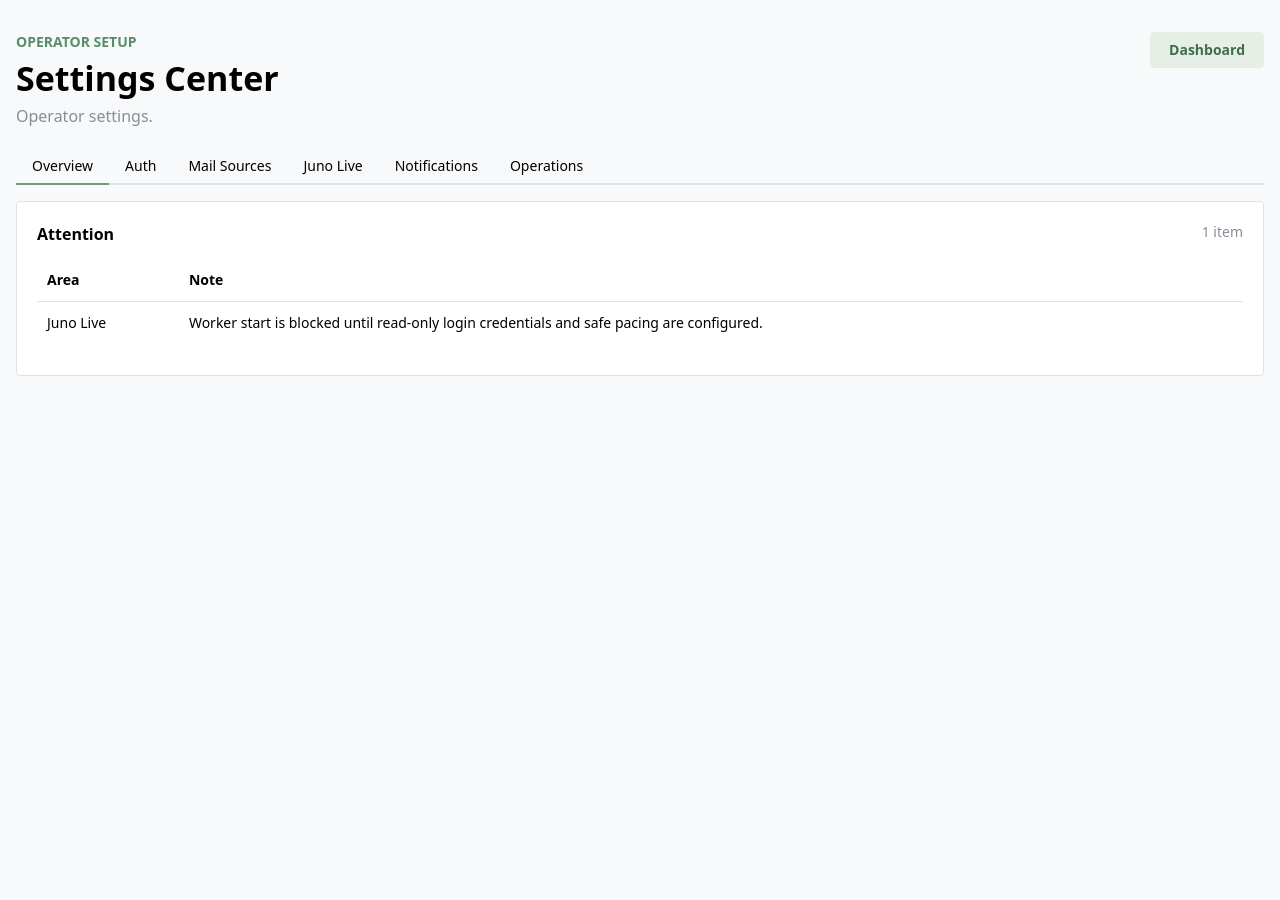
Test: SettingsCenter › selects the Auth tab through DOM click and keyboard navigation
Click the tab "Auth" at (141, 167), box [109, 149, 172, 185]
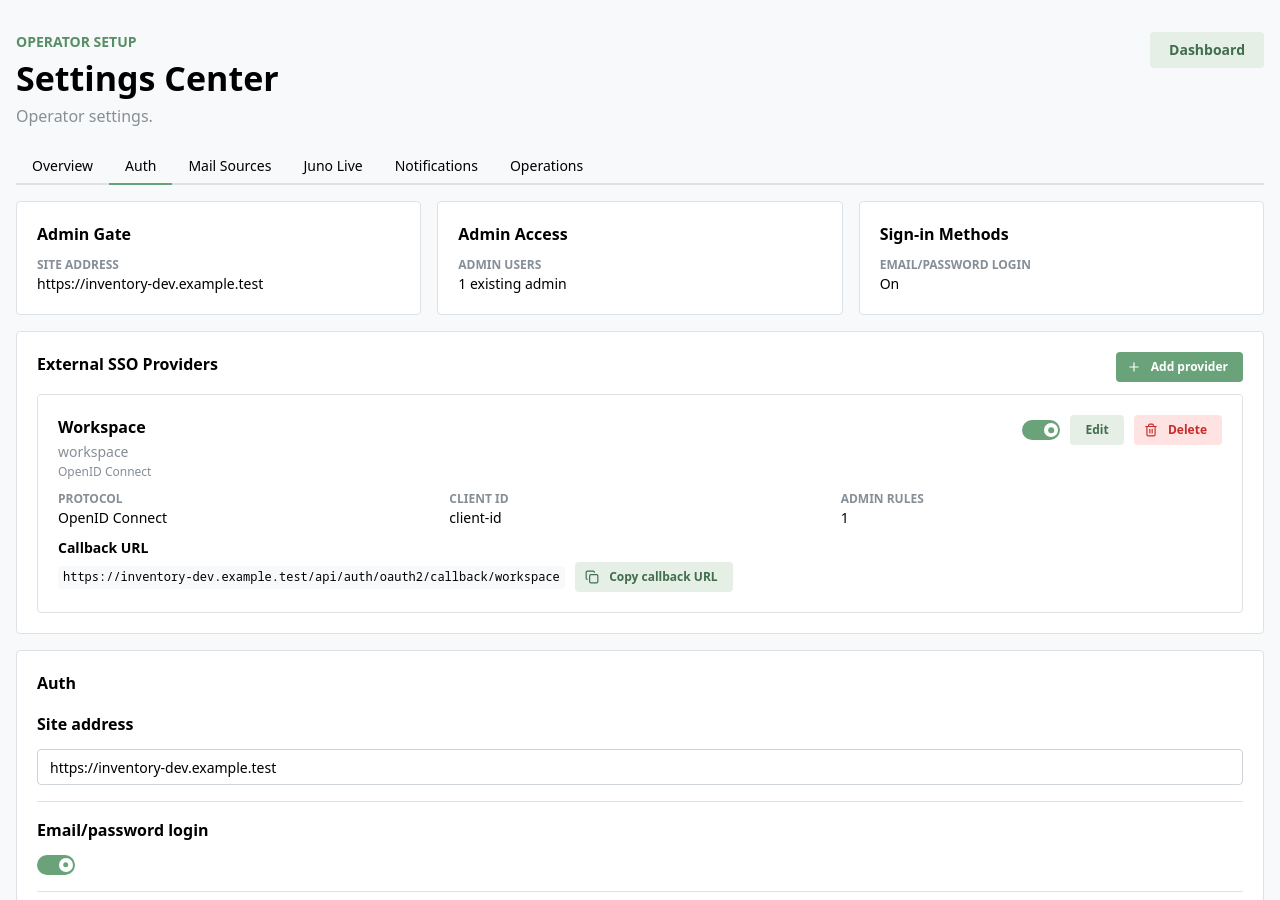
Expected: the 1st text "Auth" is shown, [125, 159, 156, 173]
Now the text "External SSO Providers" is shown, box [37, 352, 218, 377]
Click the tab "Overview" at (63, 167), box [16, 149, 109, 185]
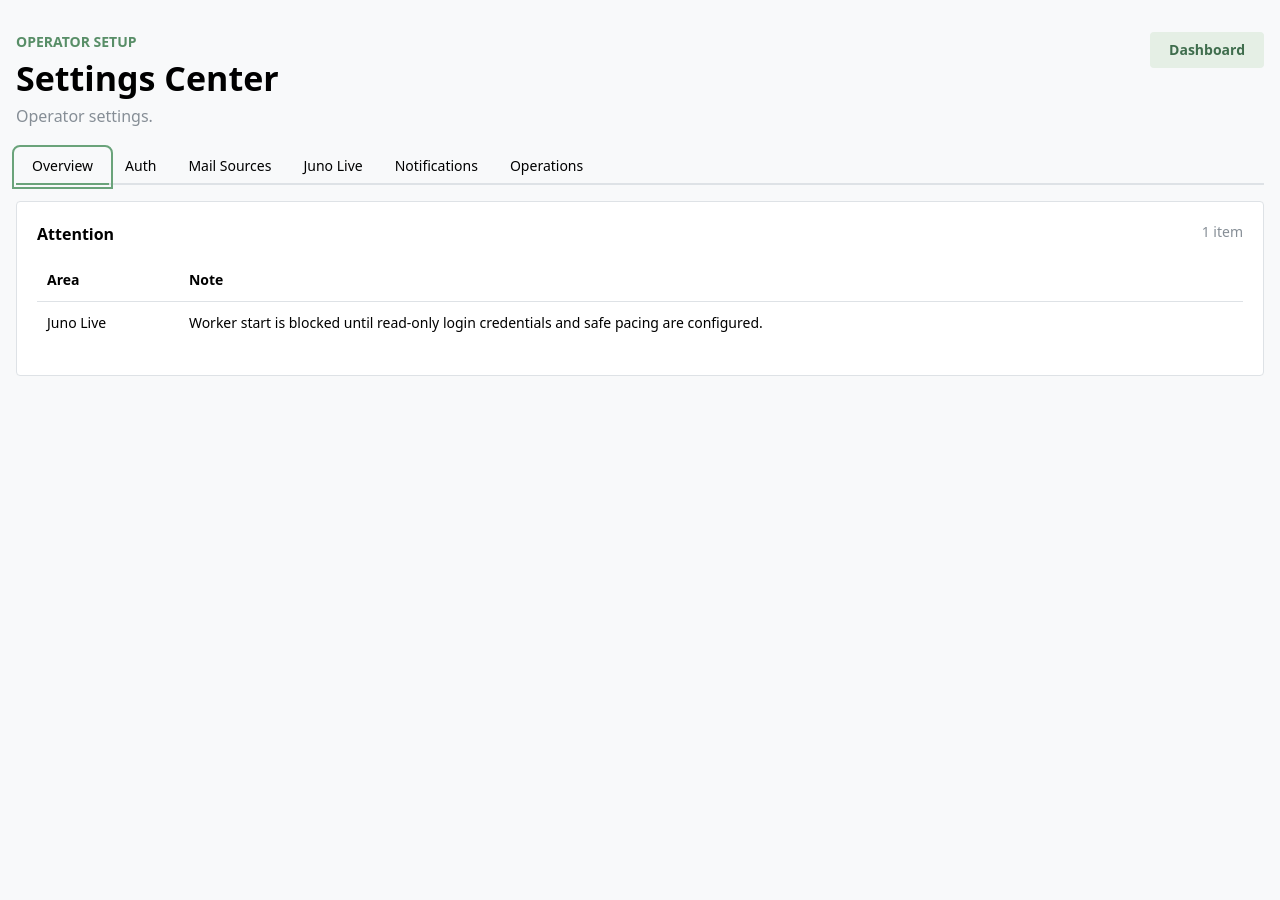
Expected: the text "Overview" is shown, [32, 159, 93, 173]
Press ArrowRight in the tab "Overview", box [16, 149, 109, 185]
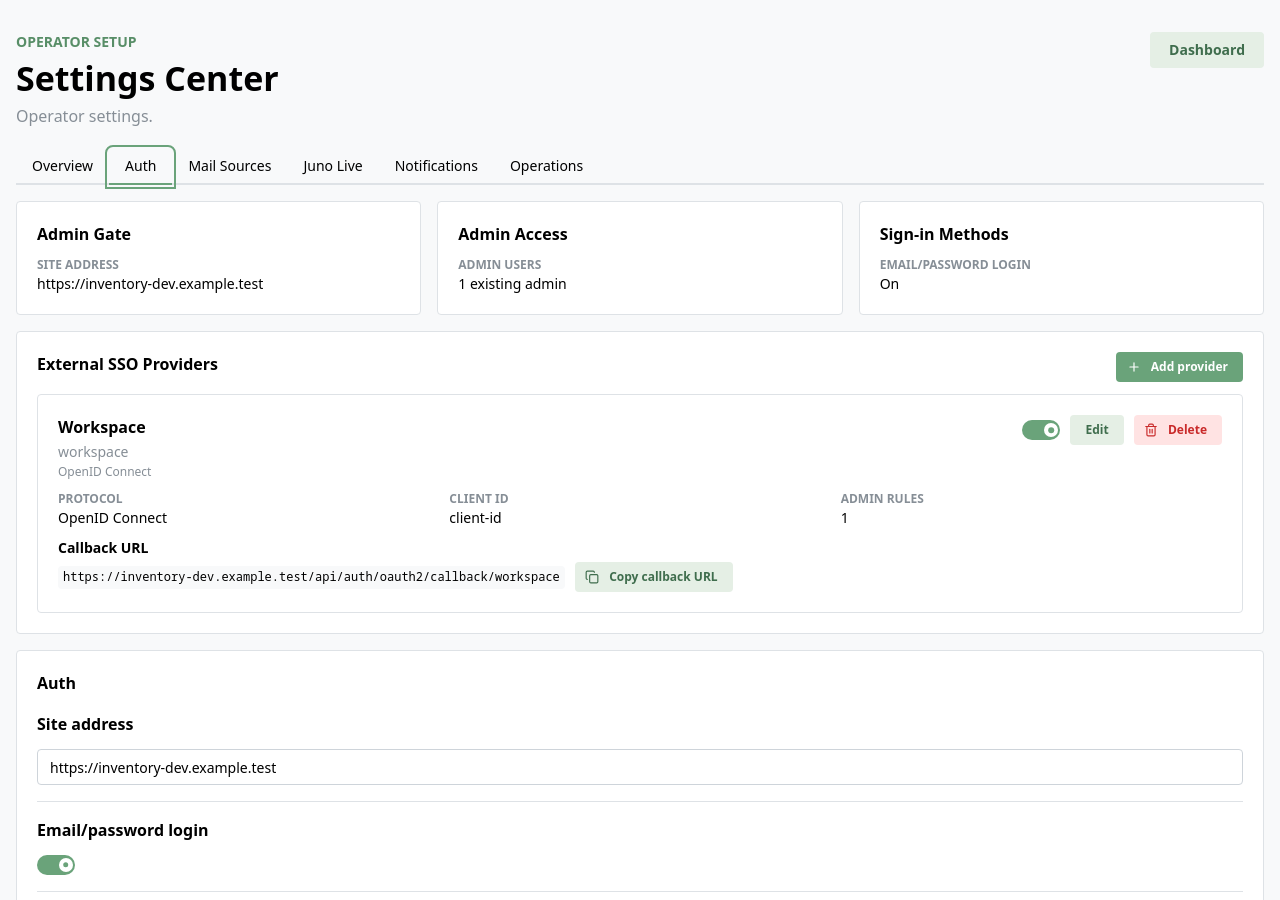
Expected: the 1st text "Auth" is shown, [125, 159, 156, 173]
Now the text "External SSO Providers" is shown, box [37, 352, 218, 377]
